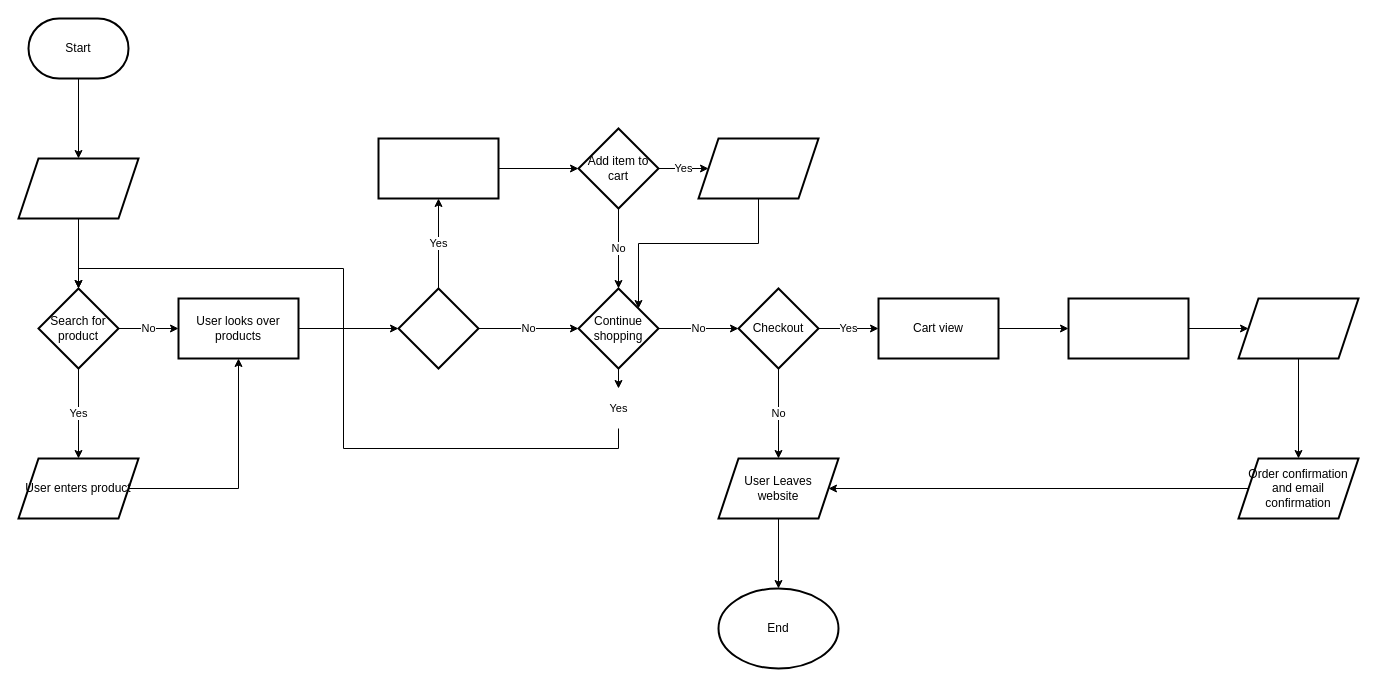
This 1376x686 diagram has some shape labels left out. Each missing label, with the box of its shape:
Item added to cart confirmation: (697, 137, 819, 199)
Products webpage opens: (377, 137, 499, 199)
User enters the website: (17, 157, 139, 219)
User inputs payment information: (1237, 297, 1359, 359)
View payment: (1067, 297, 1189, 359)
View specific product: (397, 287, 479, 369)
